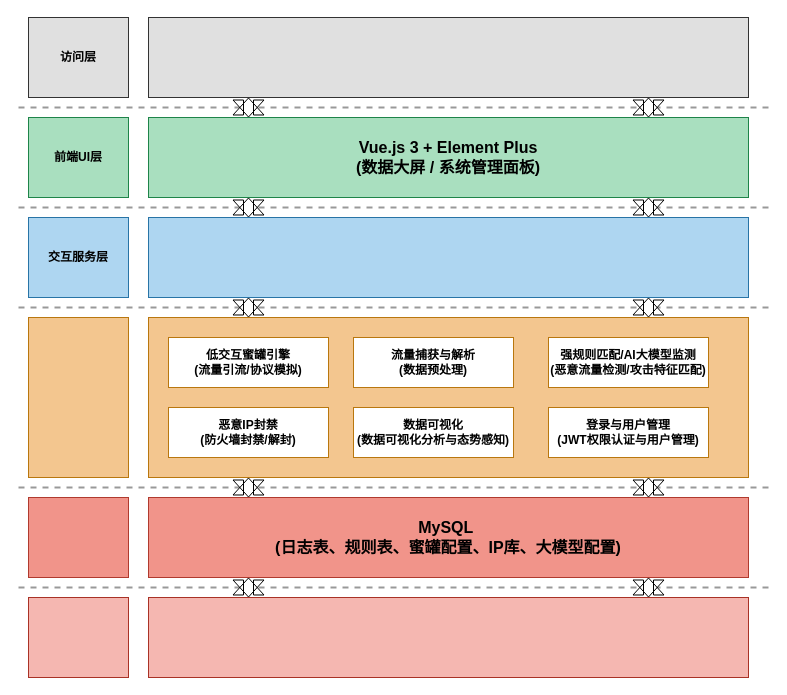
This 787x695 diagram has some shape labels left out. The centre of each missing label's shape, as x and y in pixels:
Flask RESTful API: pixel 448 257
Python环境 + Node.js前端环境 + 大模型环境: pixel 448 637
数据层: pixel 78 537
核心业务层: pixel 78 397
管理员 / 黑客 (Client/Browser): pixel 448 57
运行环境: pixel 78 637
